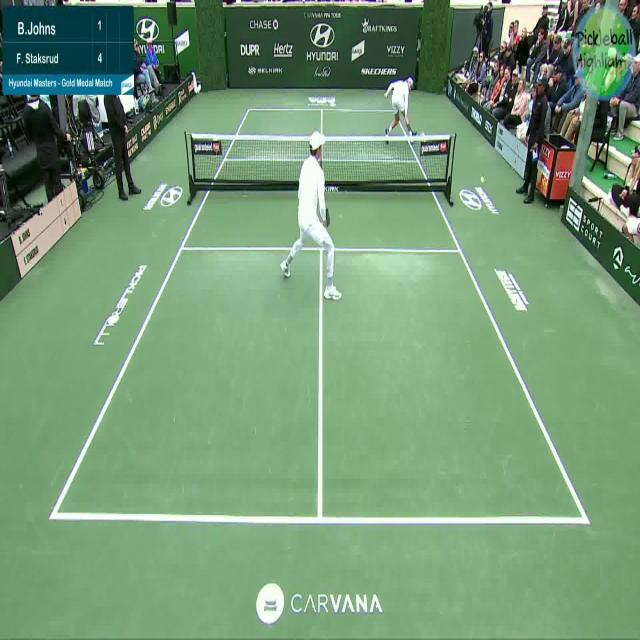Court: (52, 109, 587, 522)
ball: (478, 169, 486, 185)
